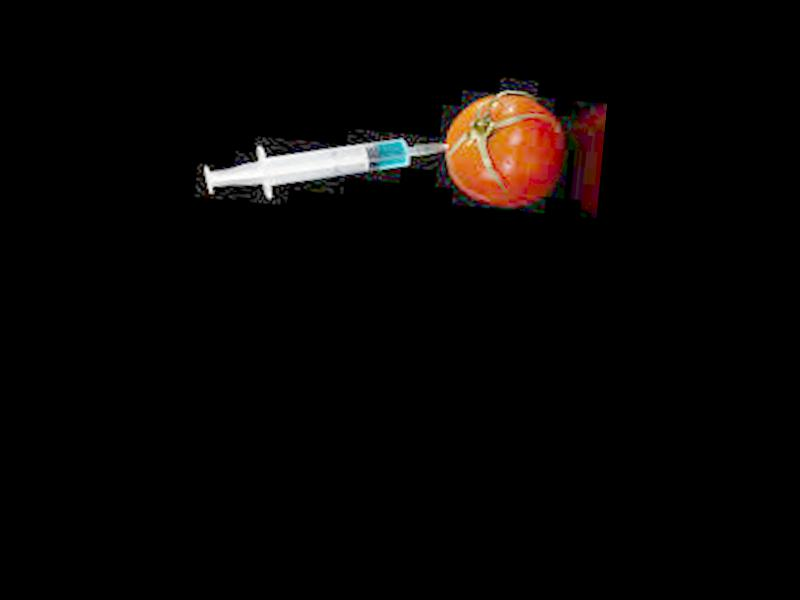Tomato: (439, 85, 564, 211)
